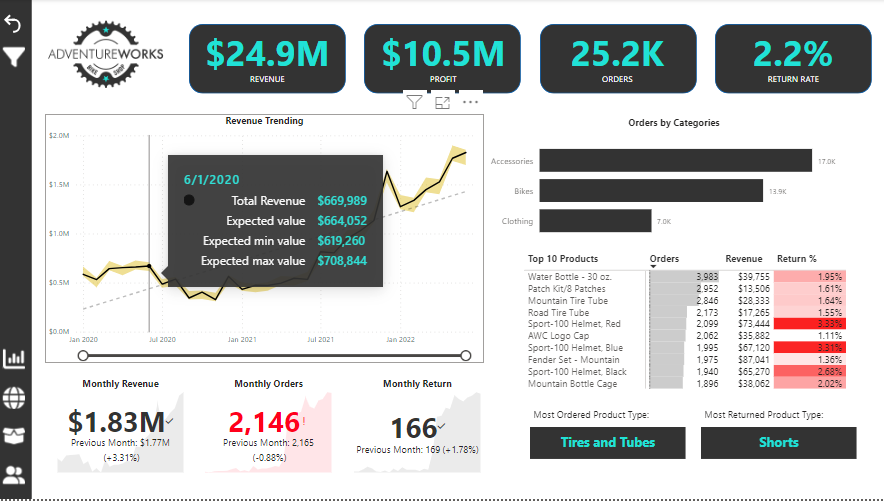

The page's visual inventory and layout, read from the dashboard file:
{"tool":"powerbi","page":{"name":"Exec Dashboard","canvas":[1280,720],"ordinal":0},"visuals":[{"type":"card","fields":{"Values":["Measure Table.Total Revenue"]},"box":[262.9,0,242.9,165.7],"z":0,"group":"g2"},{"type":"image","title":"AW Logo","box":[45.7,21.4,212.9,115.7],"z":0},{"type":"group","id":"g1","title":"KPI Background","box":[271.5,35.7,982.9,100],"z":0,"group":"g3"},{"type":"shape","box":[271.5,35.7,225.7,100],"z":0,"group":"g1"},{"type":"actionButton","box":[0,498.2,46.1,40.3],"z":0,"group":"g4"},{"type":"shape","title":"Left Nav Background","box":[0,0,45.7,720],"z":1000},{"type":"group","id":"g2","title":"KPI Values","box":[262.9,0,1000,165.7],"z":1000,"group":"g3"},{"type":"card","fields":{"Values":["Measure Table.Total Profit"]},"box":[515.8,0,242.9,165.7],"z":1000,"group":"g2"},{"type":"shape","box":[523.9,35.7,225.7,100],"z":1000,"group":"g1"},{"type":"actionButton","box":[0,553.9,46.1,40.3],"z":1000,"group":"g4"},{"type":"group","id":"g3","title":"KPI's","box":[262.9,0,1000,165.7],"z":2000},{"type":"card","fields":{"Values":["Measure Table.Total Orders"]},"box":[767.2,0,242.9,165.7],"z":2000,"group":"g2"},{"type":"shape","box":[776.3,35.7,225.7,100],"z":2000,"group":"g1"},{"type":"actionButton","box":[0,609.6,46.1,40.3],"z":2000,"group":"g4"},{"type":"card","fields":{"Values":["Measure Table.Return Rate"]},"box":[1020,0,242.9,165.7],"z":3000,"group":"g2"},{"type":"shape","box":[1028.6,35.7,225.7,100],"z":3000,"group":"g1"},{"type":"lineChart","title":"Revenue Trending","fields":{"Y":["Measure Table.Total Revenue"],"Category":["Calendar Lookup.Start of Month"]},"box":[64.8,165.6,632.2,358.6],"z":3000},{"type":"actionButton","box":[0,665.2,46.1,40.3],"z":3000,"group":"g4"},{"type":"kpi","title":"Monthly Revenue","fields":{"Indicator":["Measure Table.Total Revenue"],"TrendLine":["Calendar Lookup.Start of Month"],"Goal":["Measure Table.Previous Month Revenue"]},"box":[77.8,544.3,191.5,142.6],"z":4000},{"type":"kpi","title":"Monthly Orders","fields":{"TrendLine":["Calendar Lookup.Start of Month"],"Indicator":["Measure Table.Total Orders"],"Goal":["Measure Table.Previous Month Orders"]},"box":[291.6,544.3,191.5,142.6],"z":5000},{"type":"kpi","title":"Monthly Return","fields":{"TrendLine":["Calendar Lookup.Start of Month"],"Indicator":["Measure Table.Total Returns"],"Goal":["Measure Table.Previous Month Returns"]},"box":[505.4,544.3,191.5,142.6],"z":6000},{"type":"barChart","title":"Orders by Categories","fields":{"Category":["Product Categories Lookup.CategoryName"],"Y":["Measure Table.Total Orders"]},"box":[697,168.5,547.2,191.5],"z":7000},{"type":"pivotTable","fields":{"Rows":["Product Lookup.ProductName"],"Values":["Measure Table.Total Orders","Measure Table.Total Revenue","Measure Table.Return Rate"]},"box":[750,360,478.6,210],"z":8000},{"type":"card","fields":{"Values":["Min(Product Subcategories Lookup.SubcategoryName)"]},"box":[762.9,615.7,224.3,45.7],"z":9000},{"type":"textbox","box":[762.9,584.3,194.3,31.4],"z":10000},{"type":"card","fields":{"Values":["Min(Product Subcategories Lookup.SubcategoryName)"]},"box":[1010,615.7,224.3,45.7],"z":11000},{"type":"textbox","box":[1010,584.3,194.3,31.4],"z":12000},{"type":"actionButton","box":[0,17.3,46.1,36],"z":13000},{"type":"group","id":"g4","title":"Navigation Buttons","box":[0,498.2,46.1,207.4],"z":14000},{"type":"actionButton","box":[0,63.4,46.1,40.3],"z":15000}]}

Visuals, with their boxes on the page's 1280x720 design canvas (x1, y1, x2, y2). These are canvas units, not pixel positions in the 884x501 screenshot, which may show the page scaled, cropped or inside an application window:
card - Measure Table.Total Revenue: select_region(263, 0, 506, 166)
"AW Logo" image: select_region(46, 21, 259, 137)
"KPI Background" group: select_region(272, 36, 1254, 136)
shape: select_region(272, 36, 497, 136)
actionButton: select_region(0, 498, 46, 538)
"Left Nav Background" shape: select_region(0, 0, 46, 720)
"KPI Values" group: select_region(263, 0, 1263, 166)
card - Measure Table.Total Profit: select_region(516, 0, 759, 166)
shape: select_region(524, 36, 750, 136)
actionButton: select_region(0, 554, 46, 594)
"KPI's" group: select_region(263, 0, 1263, 166)
card - Measure Table.Total Orders: select_region(767, 0, 1010, 166)
shape: select_region(776, 36, 1002, 136)
actionButton: select_region(0, 610, 46, 650)
card - Measure Table.Return Rate: select_region(1020, 0, 1263, 166)
shape: select_region(1029, 36, 1254, 136)
"Revenue Trending" lineChart: select_region(65, 166, 697, 524)
actionButton: select_region(0, 665, 46, 706)
"Monthly Revenue" kpi: select_region(78, 544, 269, 687)
"Monthly Orders" kpi: select_region(292, 544, 483, 687)
"Monthly Return" kpi: select_region(505, 544, 697, 687)
"Orders by Categories" barChart: select_region(697, 168, 1244, 360)
pivotTable - Product Lookup.ProductName x Measure Table.Total Orders: select_region(750, 360, 1229, 570)
card - Min(Product Subcategories Lookup.SubcategoryName): select_region(763, 616, 987, 661)
textbox: select_region(763, 584, 957, 616)
card - Min(Product Subcategories Lookup.SubcategoryName): select_region(1010, 616, 1234, 661)
textbox: select_region(1010, 584, 1204, 616)
actionButton: select_region(0, 17, 46, 53)
"Navigation Buttons" group: select_region(0, 498, 46, 706)
actionButton: select_region(0, 63, 46, 104)
